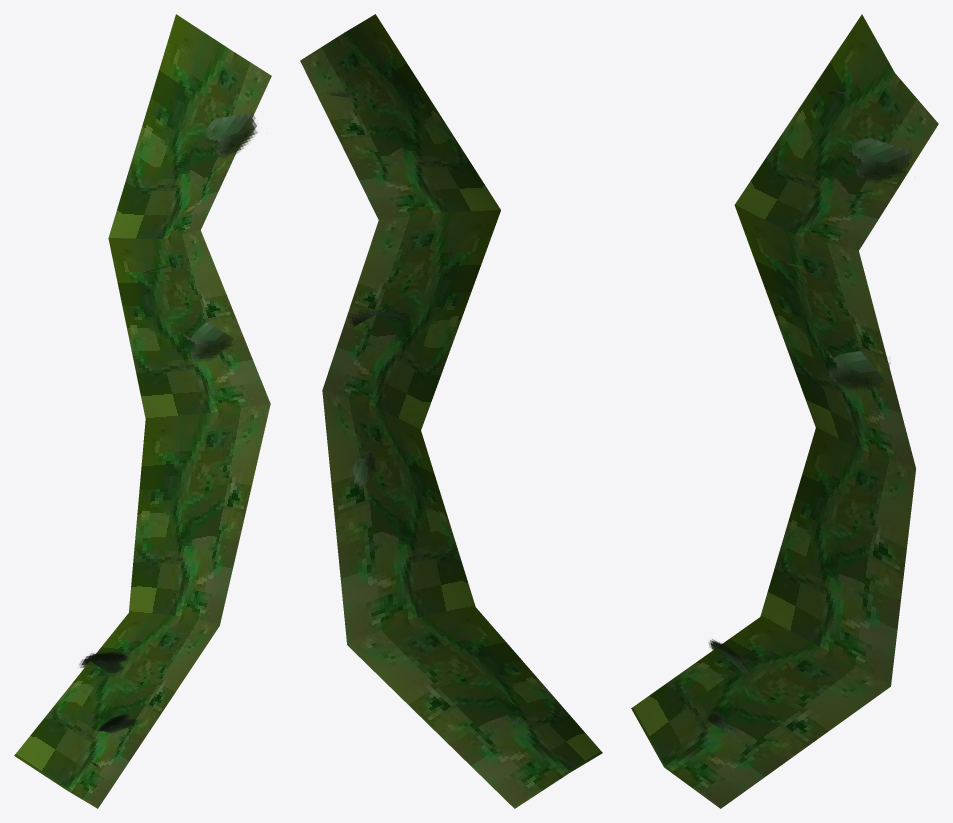
The picture shows the model from 3 angles, left to right: view 1: azimuth 30°, elevation 25°; view 2: azimuth 150°, elevation 25°; view 3: azimuth 330°, elevation 25°; orthographic projection. The views are drawn at different scales.
Parts seen in each view (by area): view 1: model_Object07; view 2: model_Object07; view 3: model_Object07.
Boxes of the visible parts, bbox=[...] form: model_Object07: bbox=[14, 14, 271, 808]; model_Object07: bbox=[300, 14, 602, 808]; model_Object07: bbox=[631, 14, 938, 808].
Size of the model in its own units: 1.08 by 2.84 by 0.3183.
2 materials, 2 textured.
